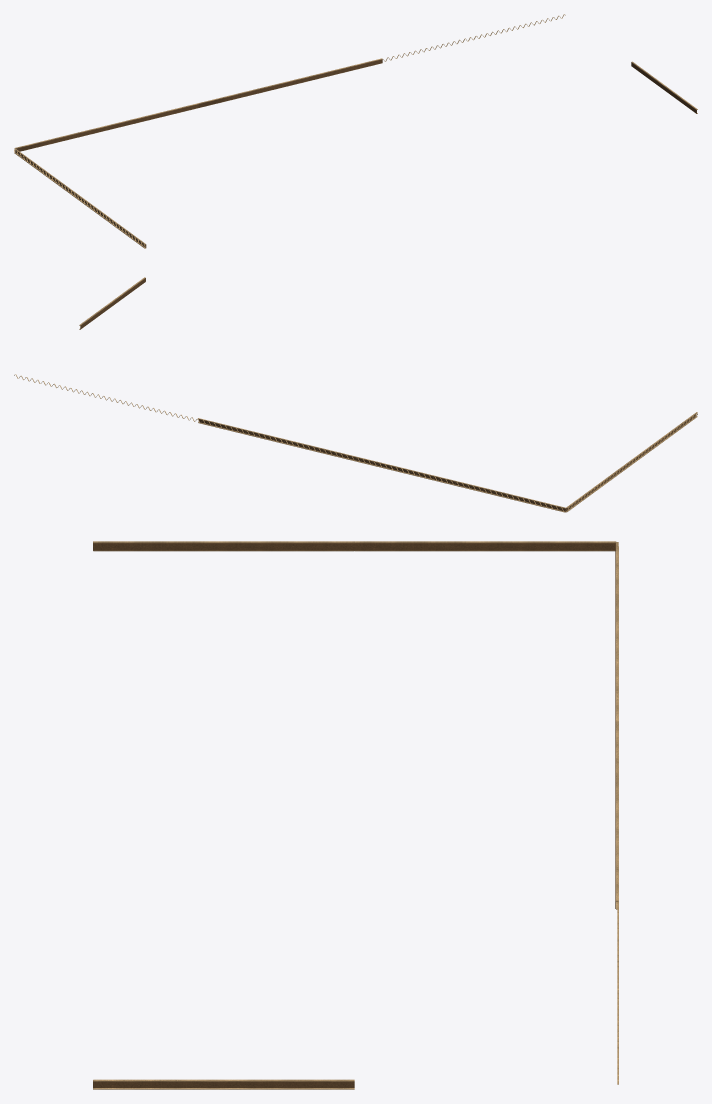
File: 20-corrugated-top-box-cut-edges-4.fbx
The picture shows the model from 3 angles, top to bottom: view 1: azimuth 30°, elevation 25°; view 2: azimuth 150°, elevation 25°; view 3: azimuth 270°, elevation 25°; orthographic projection. The views are drawn at different scales.
Parts seen in each view (by area): view 1: corrugated-top-box-cut-edges-4; view 2: corrugated-top-box-cut-edges-4; view 3: corrugated-top-box-cut-edges-4.
Boxes of the visible parts, <box> form: corrugated-top-box-cut-edges-4: <box>14,14,697,248</box>; corrugated-top-box-cut-edges-4: <box>14,277,697,512</box>; corrugated-top-box-cut-edges-4: <box>93,541,618,1089</box>.
Bounding box in the file's own units: 18067 × 140 × 7436.
1 material, 1 textured.
